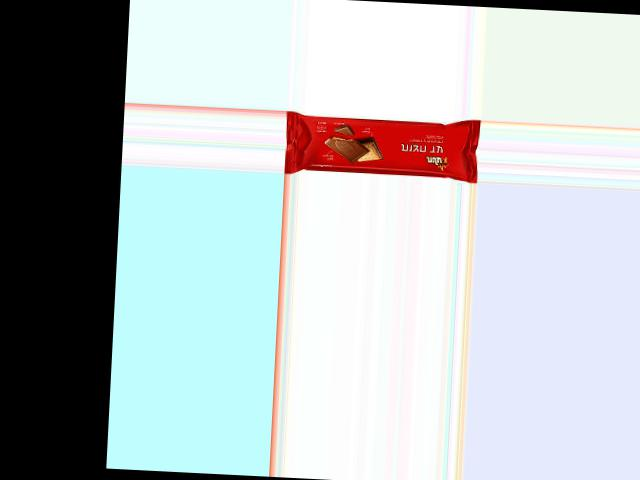chocolate: (286, 109, 475, 182)
